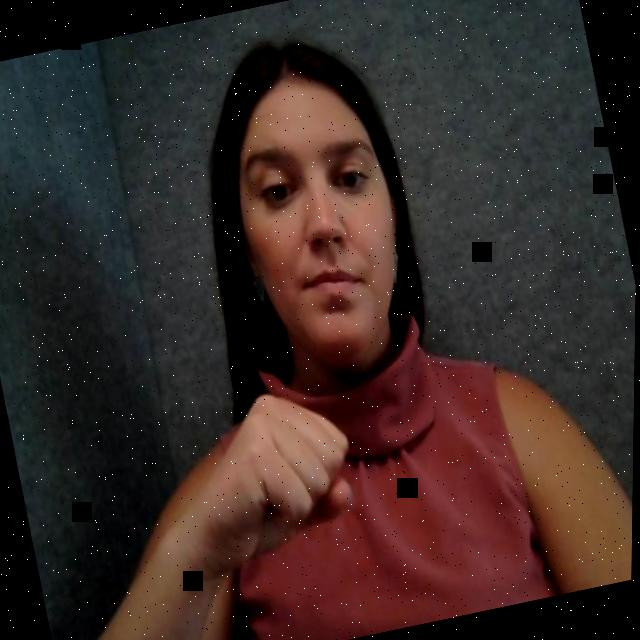Rock: (152, 272, 630, 640), (126, 334, 458, 640)
